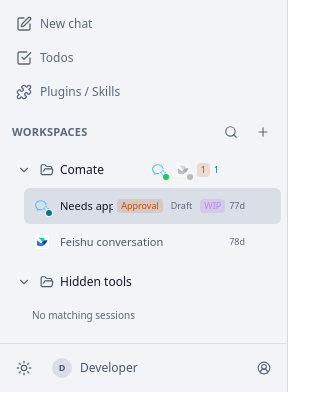
it: AgentCommandCenter › closes the user account menu with Escape and restores focus
Click the button with aria-label "User account" at point(162, 368), box [44,352,279,384]
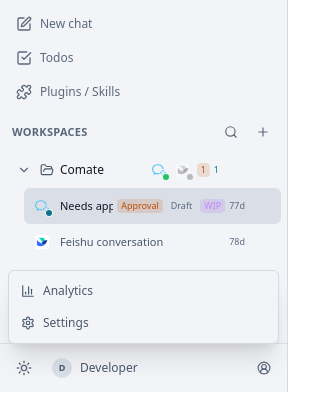
Press Escape
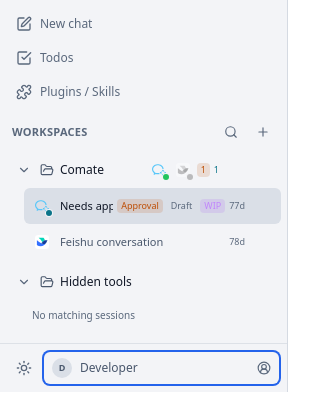
Result: the menu is gone
